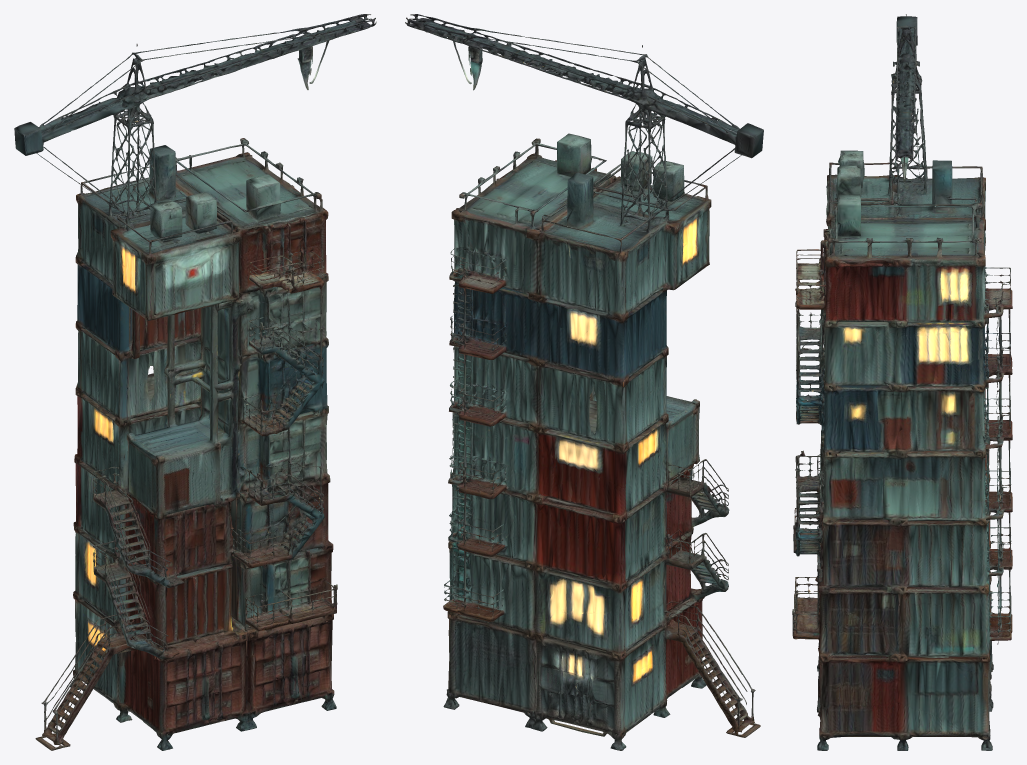
Rendered from crane_stack.glb.
The picture shows the model from 3 angles, left to right: view 1: azimuth 30°, elevation 25°; view 2: azimuth 150°, elevation 25°; view 3: azimuth 270°, elevation 25°; orthographic projection.
Parts seen in each view (by area): view 1: crane_stack; view 2: crane_stack; view 3: crane_stack.
Part boxes in pixels (bbox=[...]): crane_stack: bbox=[14, 14, 376, 750]; crane_stack: bbox=[405, 14, 763, 750]; crane_stack: bbox=[792, 14, 1012, 750].
Size of the model in its own units: 1.05 by 1.9 by 0.5718.
Materials: 1 (1 with a texture image).
